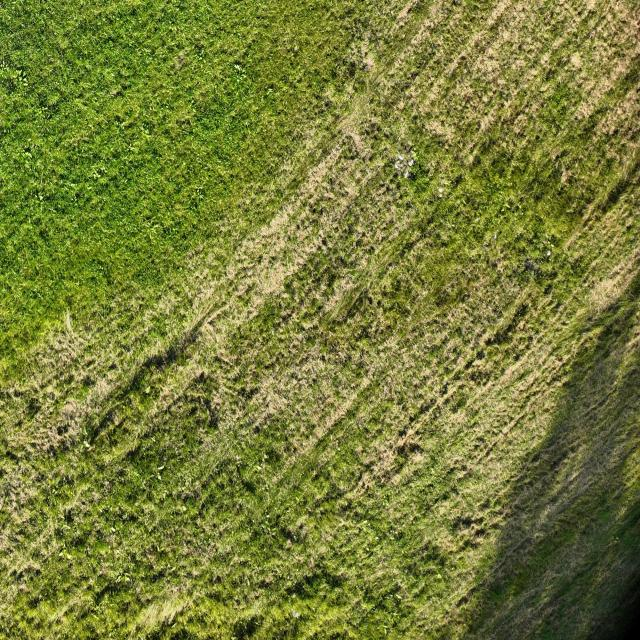rumex: (216, 429, 333, 575), (3, 202, 94, 344), (58, 482, 145, 592), (156, 78, 218, 160), (33, 324, 97, 401), (339, 5, 399, 86), (580, 5, 640, 74), (472, 177, 530, 233), (213, 63, 254, 122), (330, 116, 372, 166), (326, 448, 362, 494), (21, 148, 54, 198), (424, 107, 460, 148), (238, 593, 274, 632), (374, 585, 405, 628), (392, 2, 424, 32), (114, 118, 140, 153), (229, 63, 250, 96), (282, 275, 302, 306), (42, 86, 62, 110), (563, 229, 580, 254), (63, 506, 77, 526), (482, 232, 497, 249), (451, 172, 464, 188), (347, 60, 359, 76), (455, 470, 469, 483), (109, 86, 123, 98), (362, 292, 372, 308), (17, 71, 28, 84), (177, 51, 186, 66), (12, 71, 21, 83), (22, 150, 32, 160), (61, 522, 71, 532), (59, 548, 68, 559), (383, 616, 392, 627), (82, 439, 91, 449), (196, 189, 204, 200), (1, 61, 9, 72), (383, 497, 391, 508), (292, 43, 300, 54), (69, 182, 78, 191), (91, 170, 100, 179), (142, 129, 150, 139), (435, 572, 443, 582), (395, 591, 403, 601), (82, 427, 88, 438), (23, 147, 31, 155), (234, 64, 242, 72), (72, 193, 79, 202), (261, 454, 268, 463), (150, 224, 159, 231), (266, 88, 274, 95), (157, 465, 165, 472), (256, 464, 264, 471), (52, 487, 58, 496), (100, 167, 107, 174), (180, 505, 187, 512), (145, 386, 151, 394), (406, 304, 412, 312), (110, 526, 116, 533), (614, 536, 620, 543), (156, 474, 162, 480), (404, 567, 408, 573)
